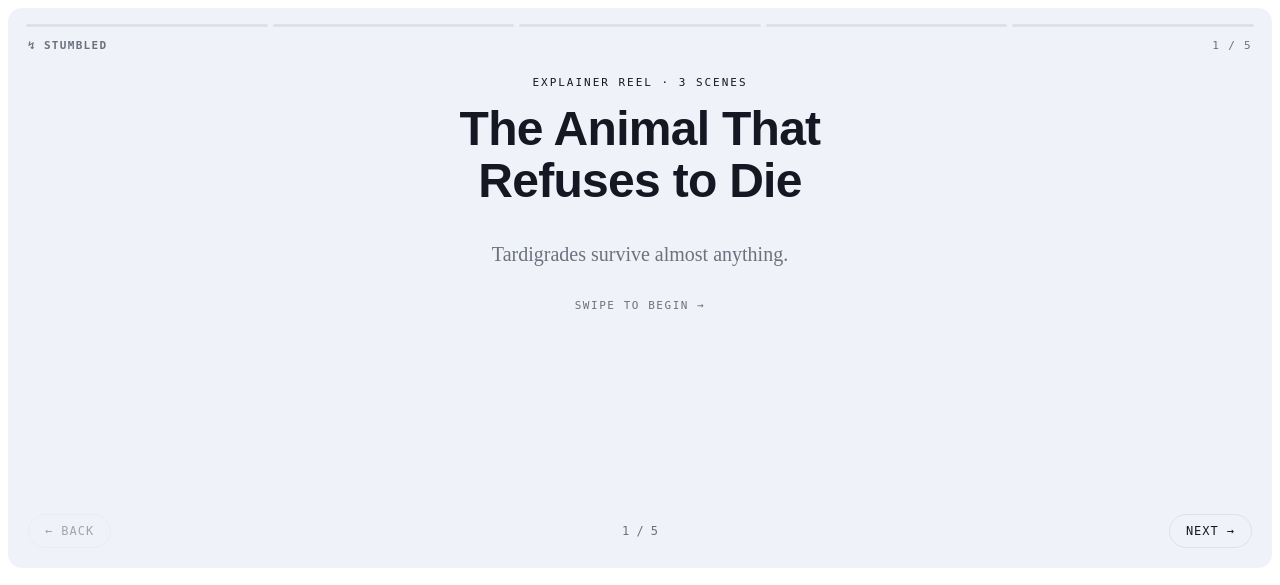
Scenario: SceneReel › advances with the Next button
This screenshot has width=1280, height=585.
Click the button "Next →": (1210, 531) left=1169, top=514, right=1252, bottom=548
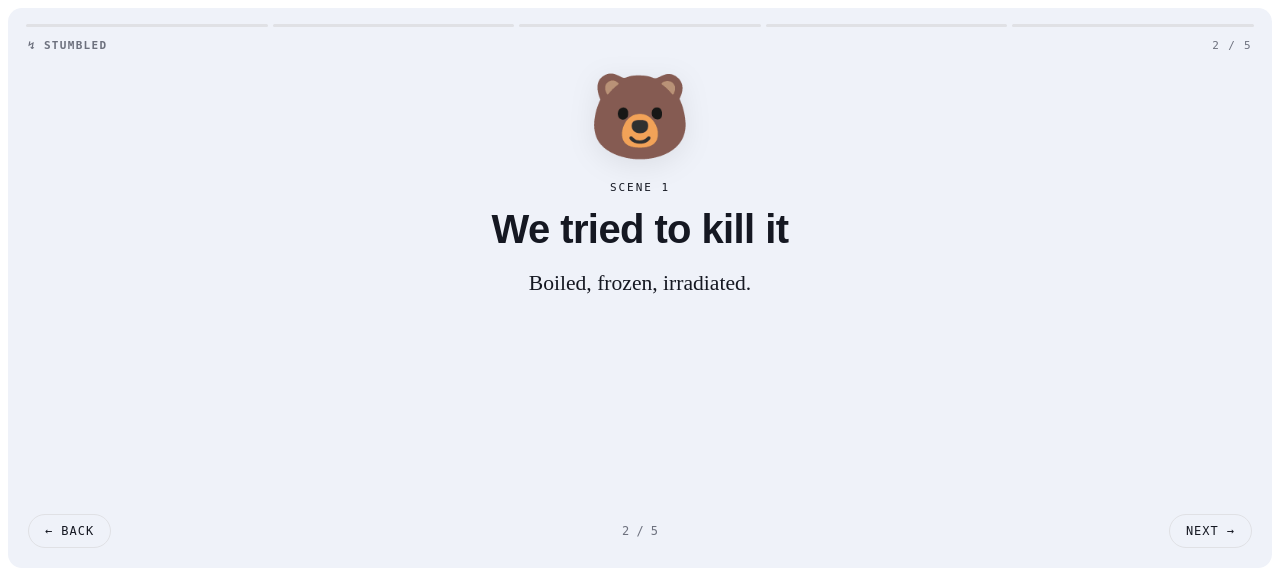
Result: the text "2 / 5" in the row of "↯ stumbled" is shown at left=1212, top=39, right=1252, bottom=52
Result: the button "← Back" is enabled at left=28, top=514, right=111, bottom=548
